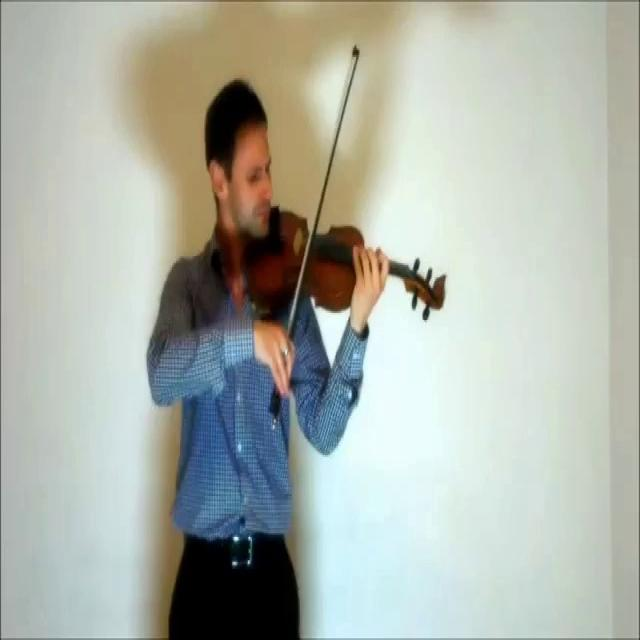Violin: (247, 202, 449, 330)
